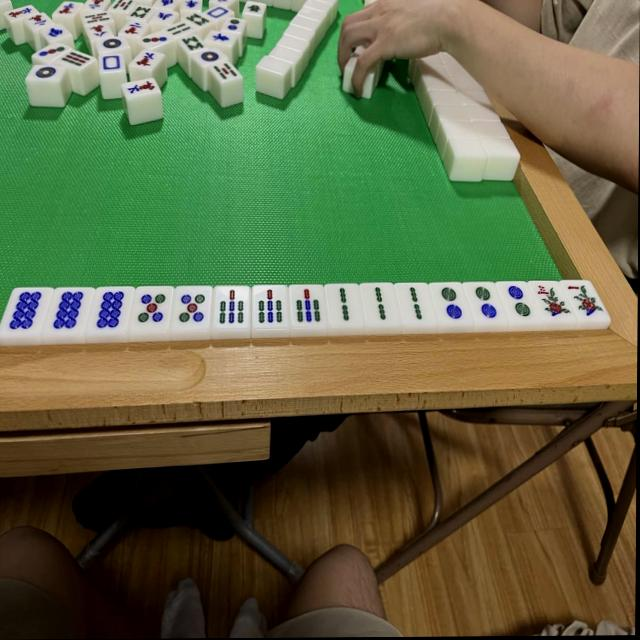ff1: (568, 279, 603, 319)
ff3: (534, 282, 567, 323)
s2: (332, 284, 358, 327), (404, 284, 429, 327), (369, 285, 394, 325)
s7: (216, 286, 248, 329), (255, 285, 286, 328), (295, 284, 324, 326)
t2: (439, 283, 466, 328), (474, 284, 499, 325), (508, 283, 531, 322)
t5: (137, 287, 168, 327), (176, 288, 208, 326)
t8: (52, 288, 86, 335), (91, 288, 126, 331), (10, 288, 42, 333)
